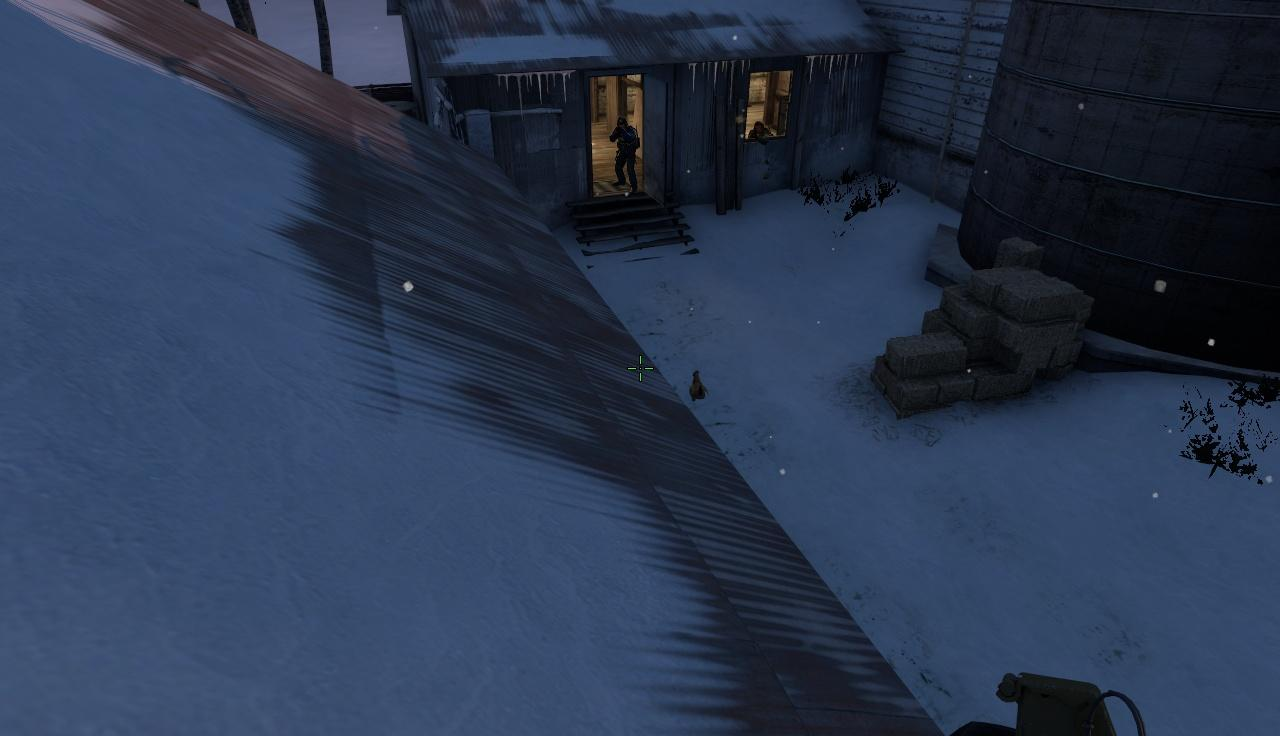ct: (614, 117, 638, 193), (748, 121, 772, 138)
cthead: (616, 118, 629, 129), (753, 121, 764, 133)
